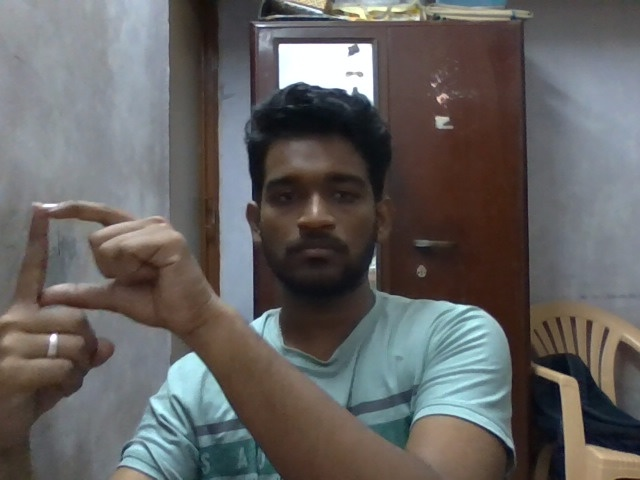D: (1, 195, 212, 435)
